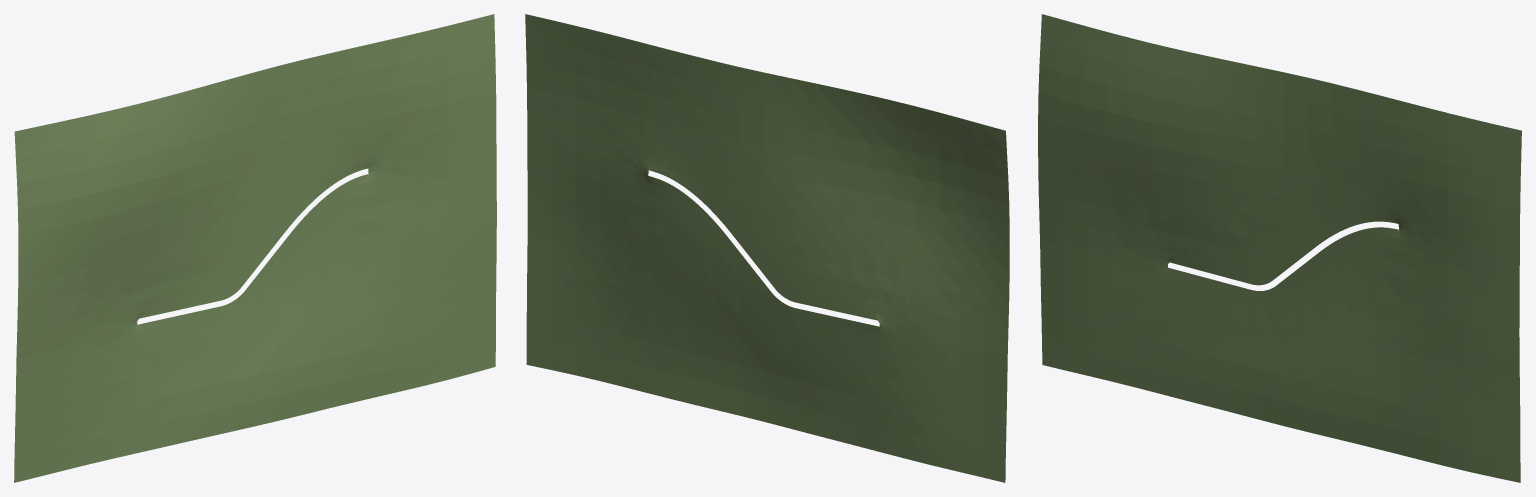
Rendered from scenarioAASLO.obj.
3 renders of one model, left to right at view 1: azimuth 30°, elevation 25°; view 2: azimuth 150°, elevation 25°; view 3: azimuth 330°, elevation 25°, orthographic.
Parts seen in each view (by area): view 1: Background; view 2: Background; view 3: Background.
Boxes of the visible parts, left/top/right/bottom form: Background: left=14, top=14, right=496, bottom=482; Background: left=525, top=14, right=1009, bottom=482; Background: left=1038, top=14, right=1521, bottom=482.
Size of the model in its own units: 800 by 560 by 24.64.
